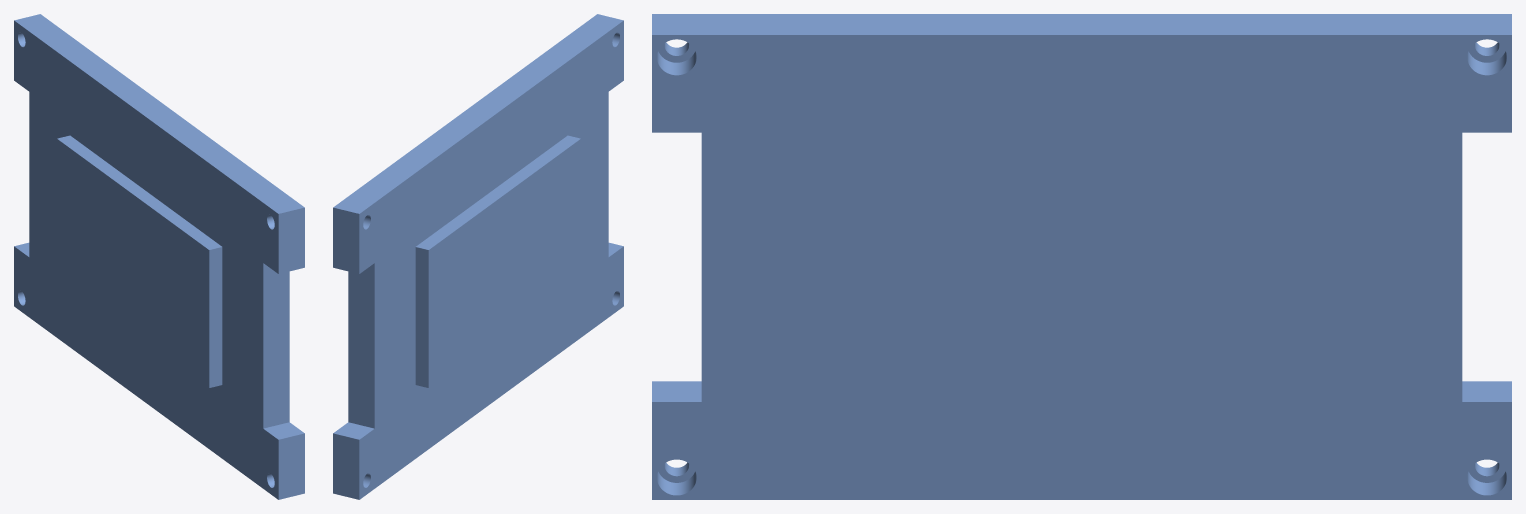
The model's file is battery_pack_lid.gltf.
The picture shows the model from 3 angles, left to right: view 1: azimuth 30°, elevation 25°; view 2: azimuth 150°, elevation 25°; view 3: azimuth 270°, elevation 25°; orthographic projection. The views are drawn at different scales.
Parts seen in each view (by area): view 1: mesh1486, mesh1491, mesh1468, mesh1471, mesh1488, mesh1489, mesh1469, mesh1473, mesh1472; view 2: mesh1486, mesh1491, mesh1468, mesh1465, mesh1488, mesh1487, mesh1467, mesh1475, mesh1476; view 3: mesh1464, mesh1468, mesh1472, mesh1476.
Boxes of the visible parts, box(x1,y1,x2,y2) form: mesh1486: box(14, 20, 278, 499); mesh1491: box(57, 139, 209, 387); mesh1468: box(14, 14, 304, 213); mesh1471: box(263, 263, 289, 428); mesh1488: box(57, 135, 221, 249); mesh1489: box(209, 247, 222, 387); mesh1469: box(278, 207, 304, 273); mesh1473: box(278, 433, 304, 499); mesh1472: box(264, 422, 304, 439); mesh1486: box(359, 20, 623, 499); mesh1491: box(428, 139, 580, 387); mesh1468: box(333, 14, 623, 213); mesh1465: box(348, 263, 374, 428); mesh1488: box(416, 135, 580, 249); mesh1487: box(415, 247, 428, 387); mesh1467: box(333, 207, 359, 273); mesh1475: box(333, 433, 359, 499); mesh1476: box(333, 422, 373, 439); mesh1464: box(652, 35, 1511, 499); mesh1468: box(652, 14, 1511, 34); mesh1472: box(652, 381, 701, 401); mesh1476: box(1462, 381, 1511, 401).
Size of the model in its own units: 0.0075 by 0.0518 by 0.0868.
